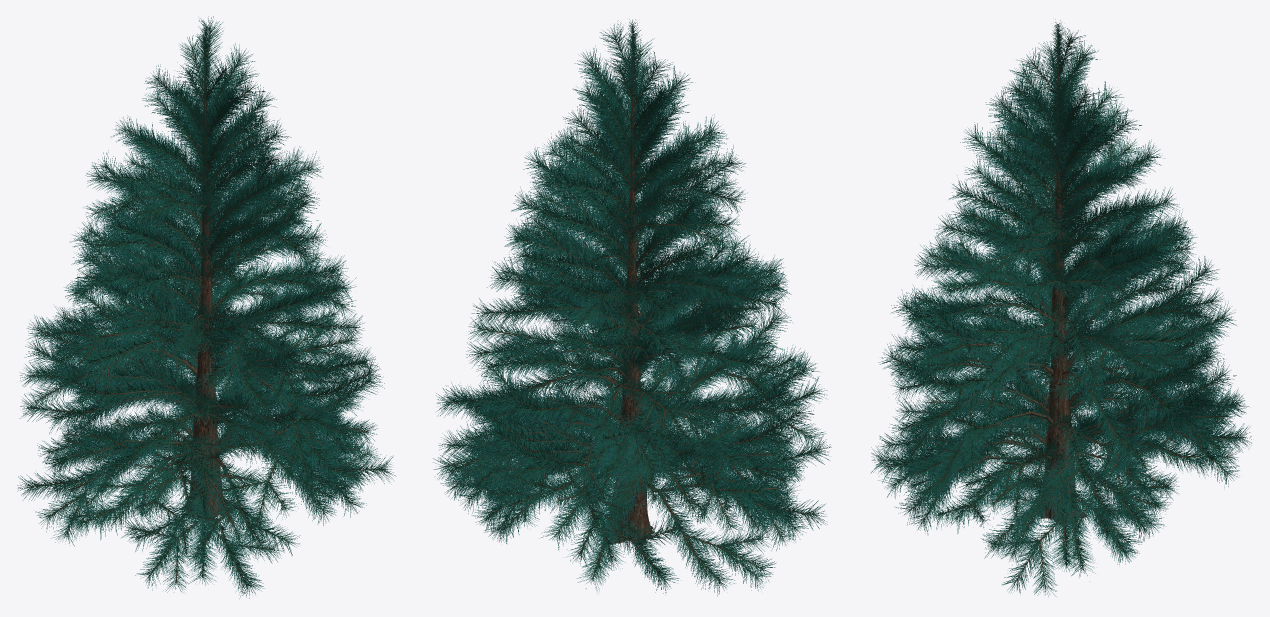
The model's file is tree_spruce.glb.
The picture shows the model from 3 angles, left to right: view 1: azimuth 30°, elevation 25°; view 2: azimuth 150°, elevation 25°; view 3: azimuth 270°, elevation 25°; orthographic projection. The views are drawn at different scales.
Parts seen in each view (by area): view 1: Object_2, Object_3; view 2: Object_2, Object_3; view 3: Object_2, Object_3.
Boxes of the visible parts, bbox=[...] form: Object_2: bbox=[17, 16, 395, 598]; Object_3: bbox=[32, 48, 365, 583]; Object_2: bbox=[433, 19, 831, 595]; Object_3: bbox=[446, 45, 813, 573]; Object_2: bbox=[870, 19, 1251, 596]; Object_3: bbox=[904, 44, 1240, 581].
Bounding box in the file's own units: 2.63 × 4 × 2.65.
Materials: 2 (2 with a texture image).
